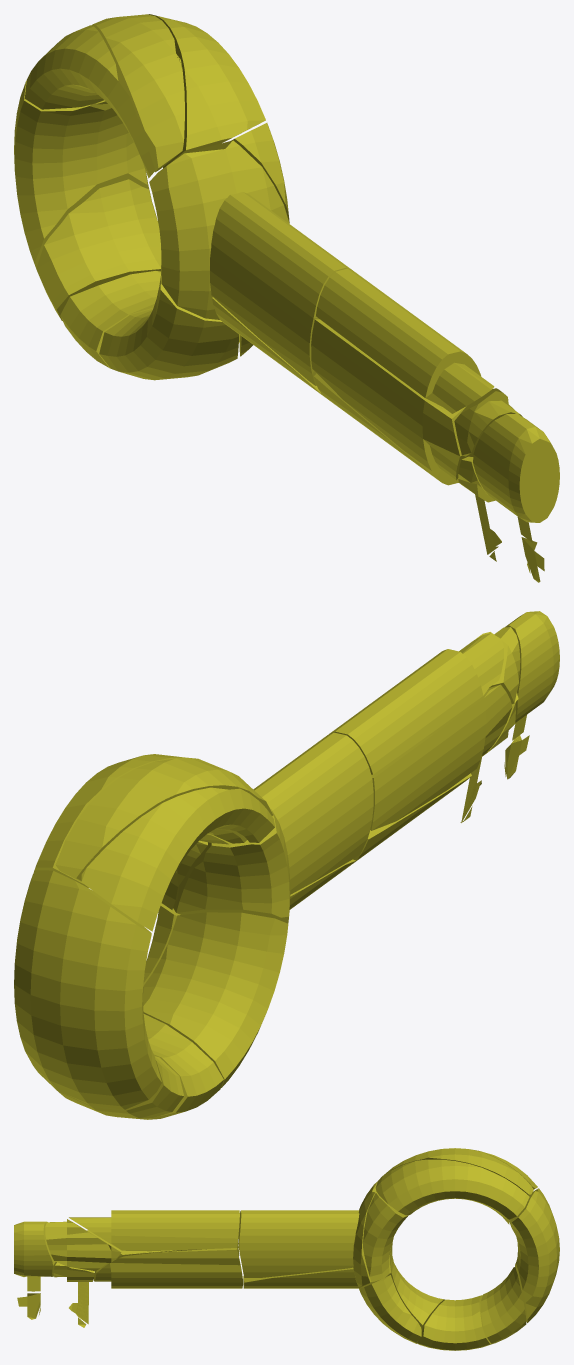
Rendered from storeroom_key_kaputt.glb.
3 views of the same model, one above another, from view 1: azimuth 30°, elevation 25°; view 2: azimuth 150°, elevation 25°; view 3: azimuth 270°, elevation 25° (orthographic). The views are drawn at different scales.
Parts seen in each view (by area): view 1: Cylinder_cell, Torus_cell.006, Torus_cell.005, Cylinder_cell.003, Torus_cell.010, Cylinder_cell.002, Torus_cell.003, Torus_cell.009, Torus_cell.008, Cylinder_cell.004, Torus_cell.004, Torus_cell.002 (+5 smaller); view 2: Torus_cell.006, Torus_cell.009, Cylinder_cell, Torus_cell.004, Cylinder_cell.003, Cylinder_cell.002, Torus_cell.003, Torus_cell.005, Cylinder_cell.004, Torus_cell.002, Torus_cell.008, Torus_cell.010 (+6 smaller); view 3: Cylinder_cell, Torus_cell.008, Cylinder_cell.003, Cylinder_cell.005, Torus_cell.006, Torus_cell.002, Cylinder_cell.006, Torus_cell.010, Torus_cell.007, Cylinder_cell.004, Torus_cell.001, Cylinder_cell.008 (+6 smaller).
Part boxes in pixels (x1=…): Cylinder_cell: x1=210, y1=192, x2=352, y2=385; Torus_cell.006: x1=14, y1=81, x2=151, y2=268; Torus_cell.005: x1=149, y1=140, x2=289, y2=319; Cylinder_cell.003: x1=316, y1=268, x2=494, y2=413; Torus_cell.010: x1=36, y1=179, x2=161, y2=320; Cylinder_cell.002: x1=311, y1=319, x2=467, y2=480; Torus_cell.003: x1=91, y1=14, x2=184, y2=172; Torus_cell.009: x1=99, y1=276, x2=238, y2=380; Torus_cell.008: x1=148, y1=14, x2=265, y2=168; Cylinder_cell.004: x1=473, y1=413, x2=559, y2=542; Torus_cell.004: x1=25, y1=25, x2=155, y2=178; Torus_cell.002: x1=60, y1=271, x2=239, y2=368; Torus_cell.006: x1=14, y1=870, x2=161, y2=1109; Torus_cell.009: x1=143, y1=912, x2=288, y2=1087; Cylinder_cell: x1=253, y1=732, x2=373, y2=894; Torus_cell.004: x1=81, y1=787, x2=274, y2=931; Cylinder_cell.003: x1=329, y1=633, x2=503, y2=774; Cylinder_cell.002: x1=370, y1=684, x2=512, y2=830; Torus_cell.003: x1=55, y1=757, x2=272, y2=881; Torus_cell.005: x1=173, y1=807, x2=290, y2=923; Cylinder_cell.004: x1=505, y1=611, x2=559, y2=740; Torus_cell.002: x1=117, y1=1014, x2=223, y2=1119; Torus_cell.008: x1=34, y1=754, x2=229, y2=888; Torus_cell.010: x1=34, y1=1055, x2=183, y2=1118; Cylinder_cell: x1=238, y1=1210, x2=359, y2=1277; Torus_cell.008: x1=375, y1=1159, x2=529, y2=1219; Cylinder_cell.003: x1=69, y1=1210, x2=239, y2=1251; Cylinder_cell.005: x1=94, y1=1248, x2=242, y2=1288; Torus_cell.006: x1=509, y1=1188, x2=559, y2=1322; Torus_cell.002: x1=417, y1=1295, x2=492, y2=1350; Cylinder_cell.006: x1=45, y1=1219, x2=121, y2=1271; Torus_cell.010: x1=481, y1=1267, x2=526, y2=1343; Torus_cell.007: x1=363, y1=1193, x2=408, y2=1282; Cylinder_cell.004: x1=14, y1=1221, x2=56, y2=1291; Torus_cell.001: x1=359, y1=1275, x2=421, y2=1342; Cylinder_cell.008: x1=243, y1=1267, x2=362, y2=1288.
Size of the model in its own units: 0.1 by 0.25 by 0.6508.
